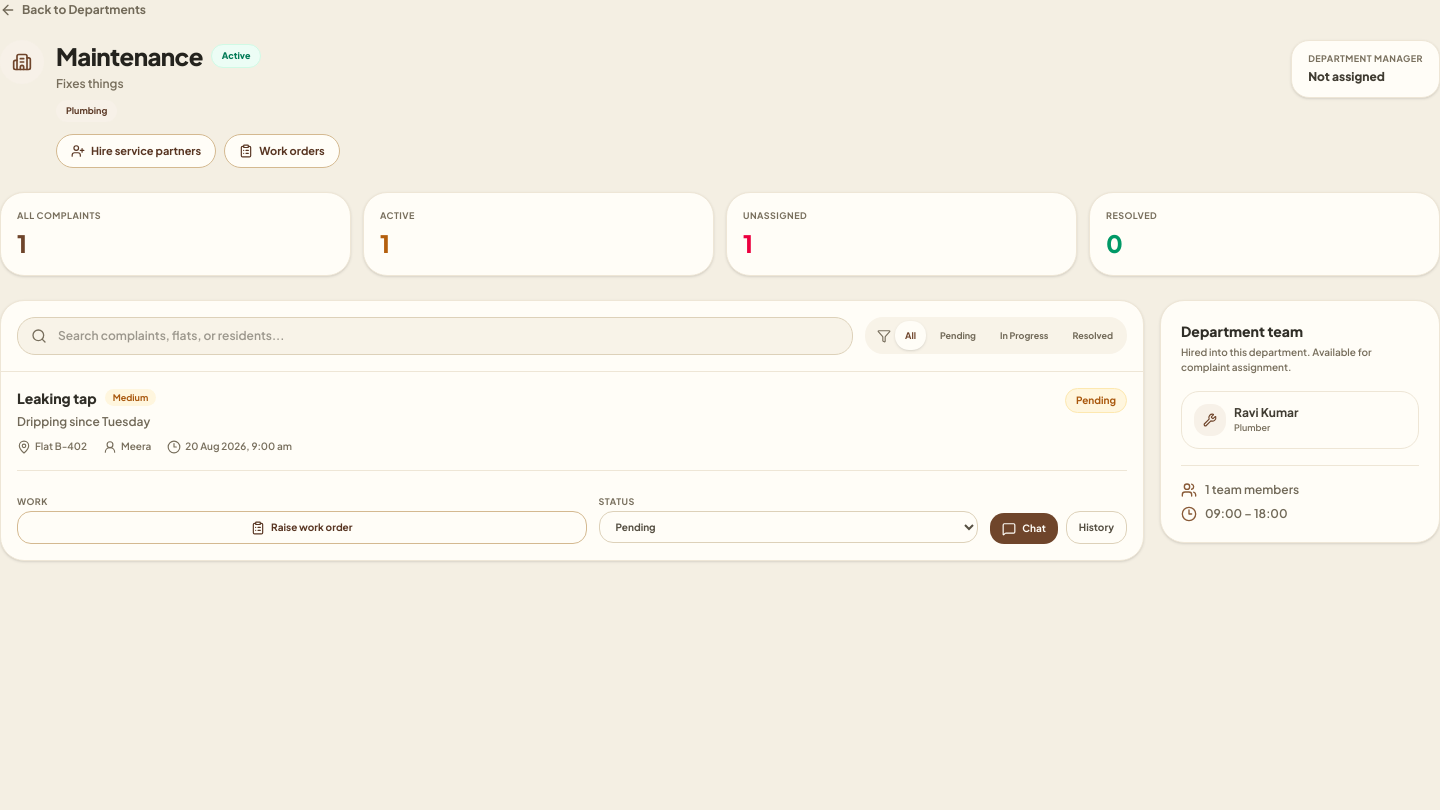
Test: complaint drawer portal contract › keeps the close and escape behavior
Click the button "Chat". click: (1024, 528)
box: [990, 513, 1058, 544]
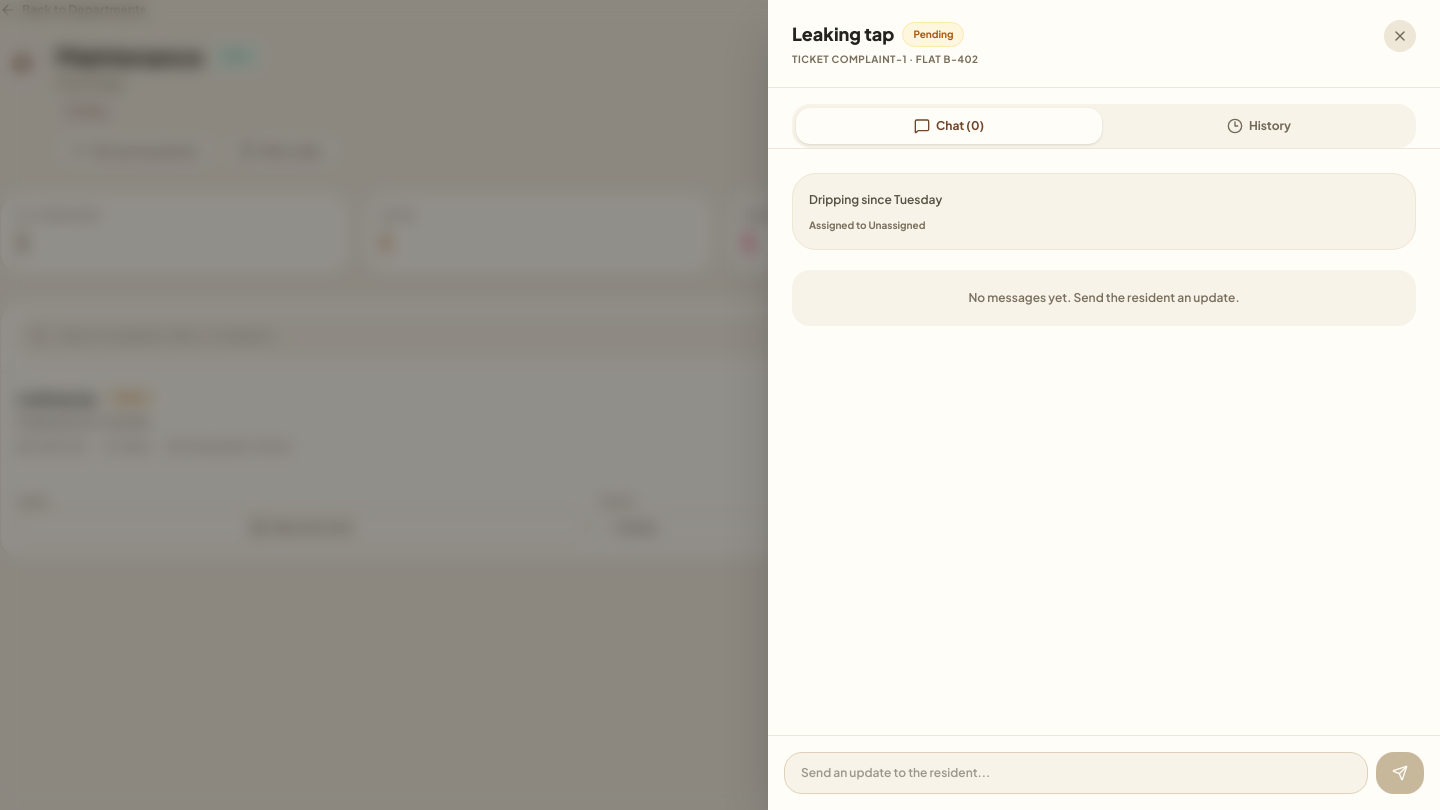
Click the button named "Close complaint". click: (1400, 36)
box: [1384, 20, 1416, 52]
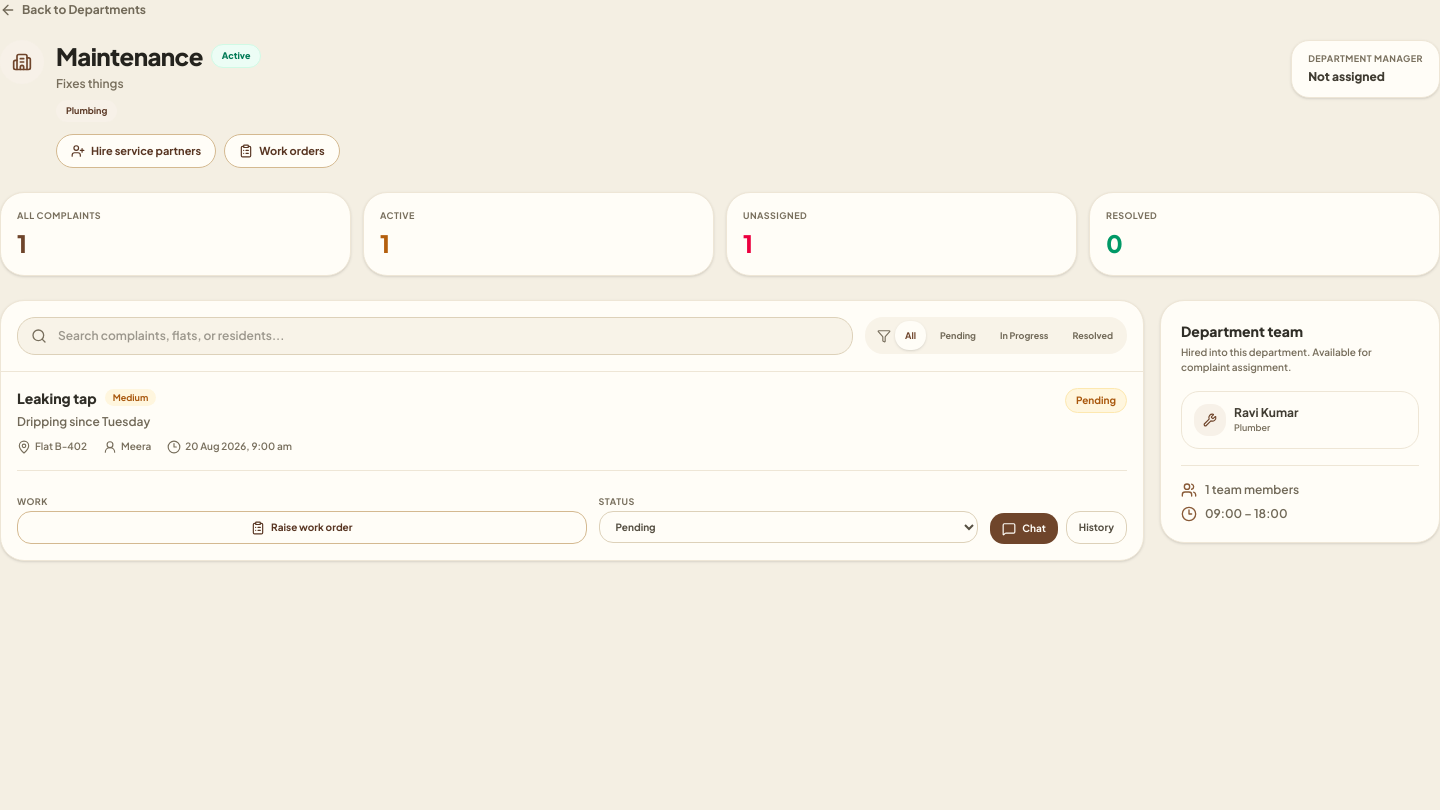
Now the dialog is gone
Click the button "Chat". click: (1024, 528)
box: [990, 513, 1058, 544]
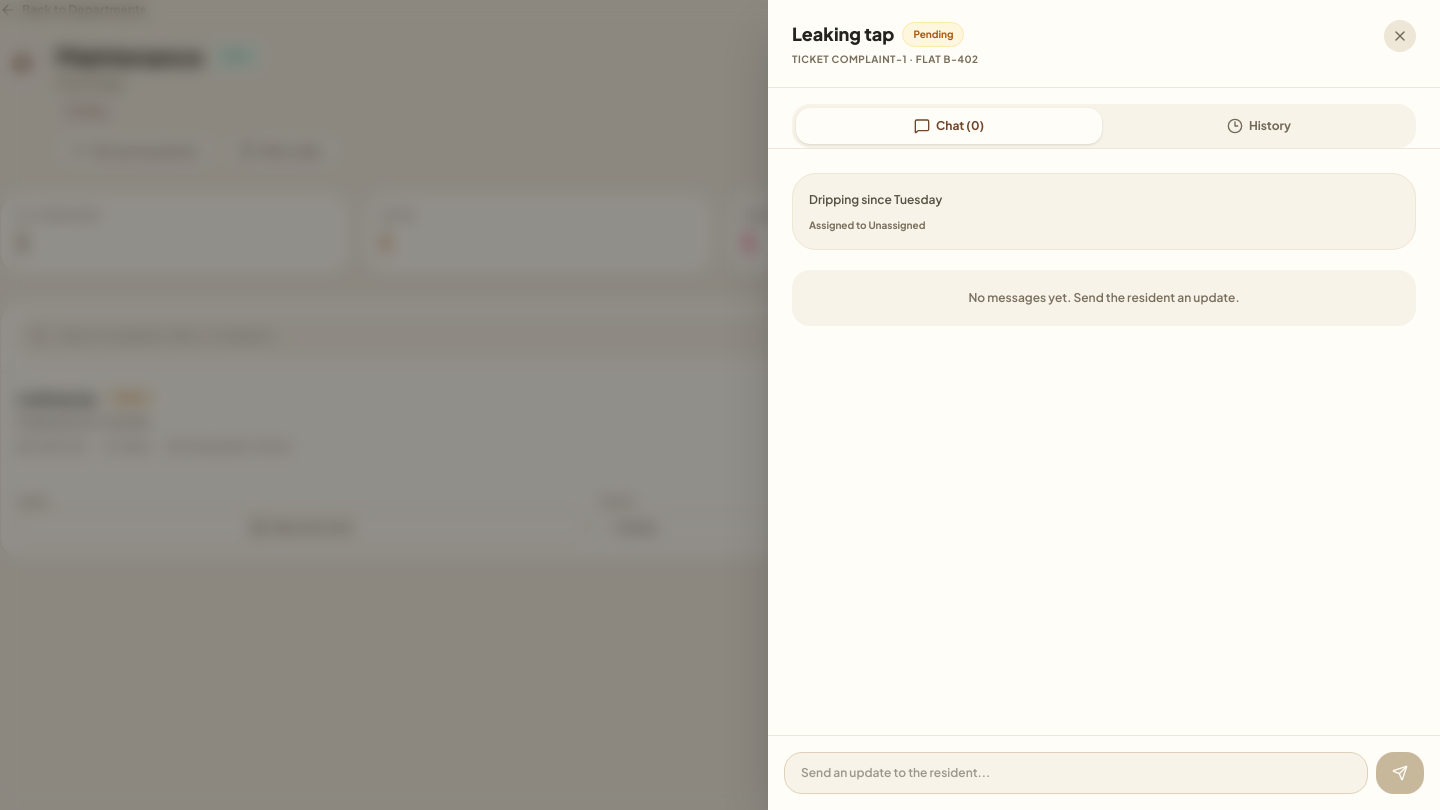
Press Escape
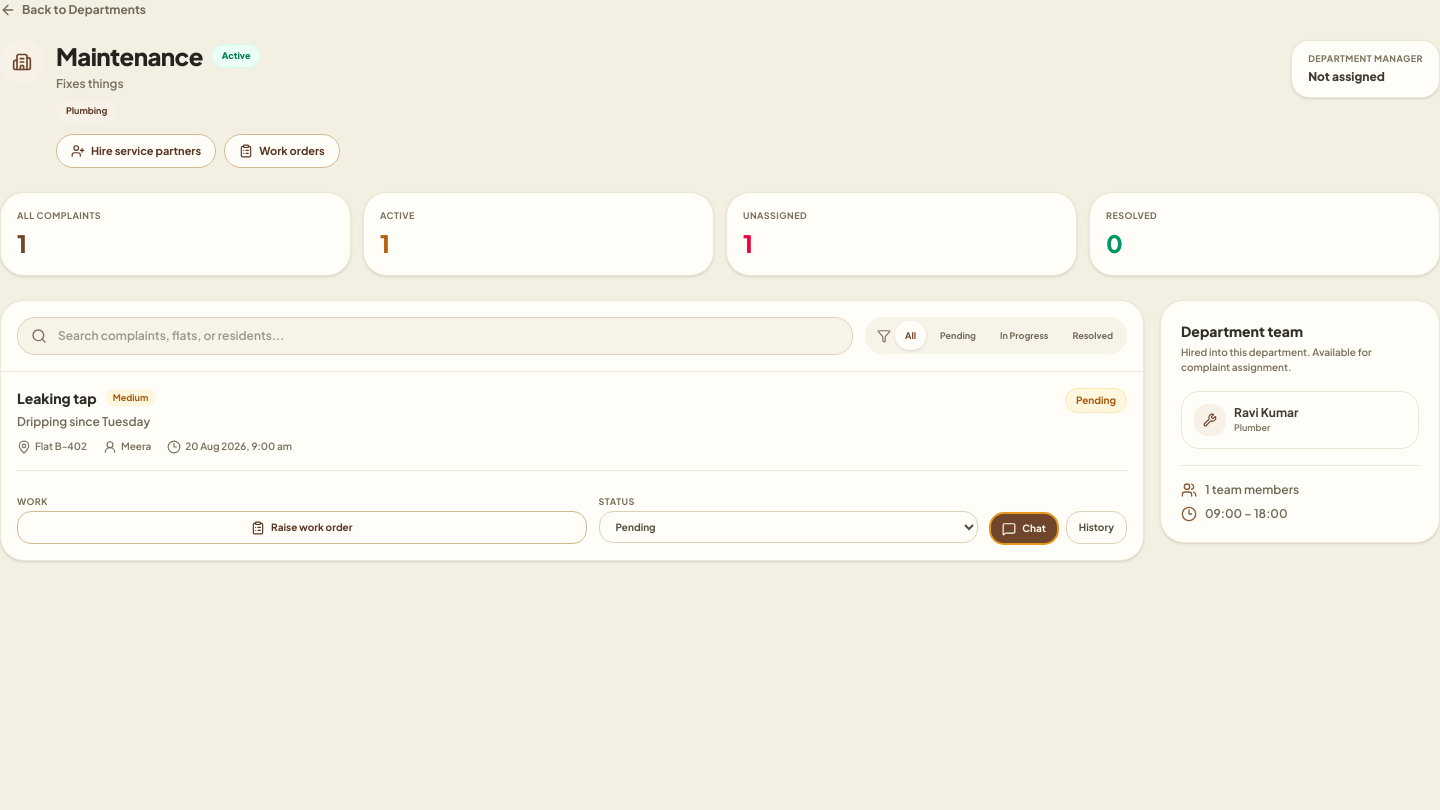
Now the dialog is gone
